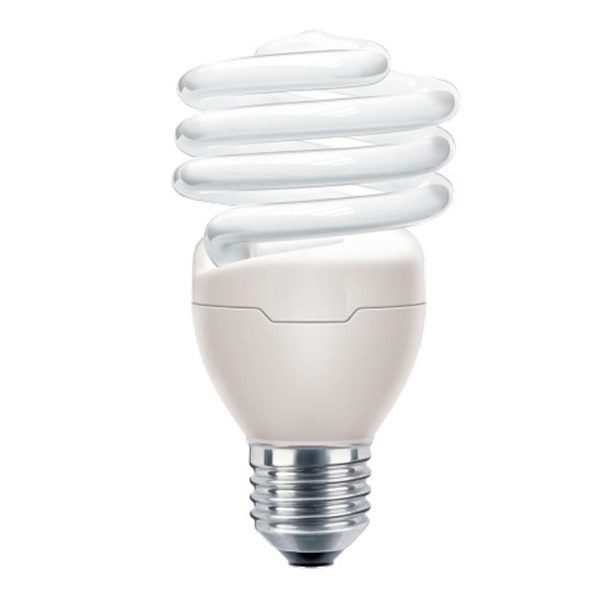Light_bulb: (166, 22, 469, 580)
